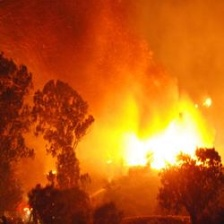fire: (114, 111, 218, 168)
